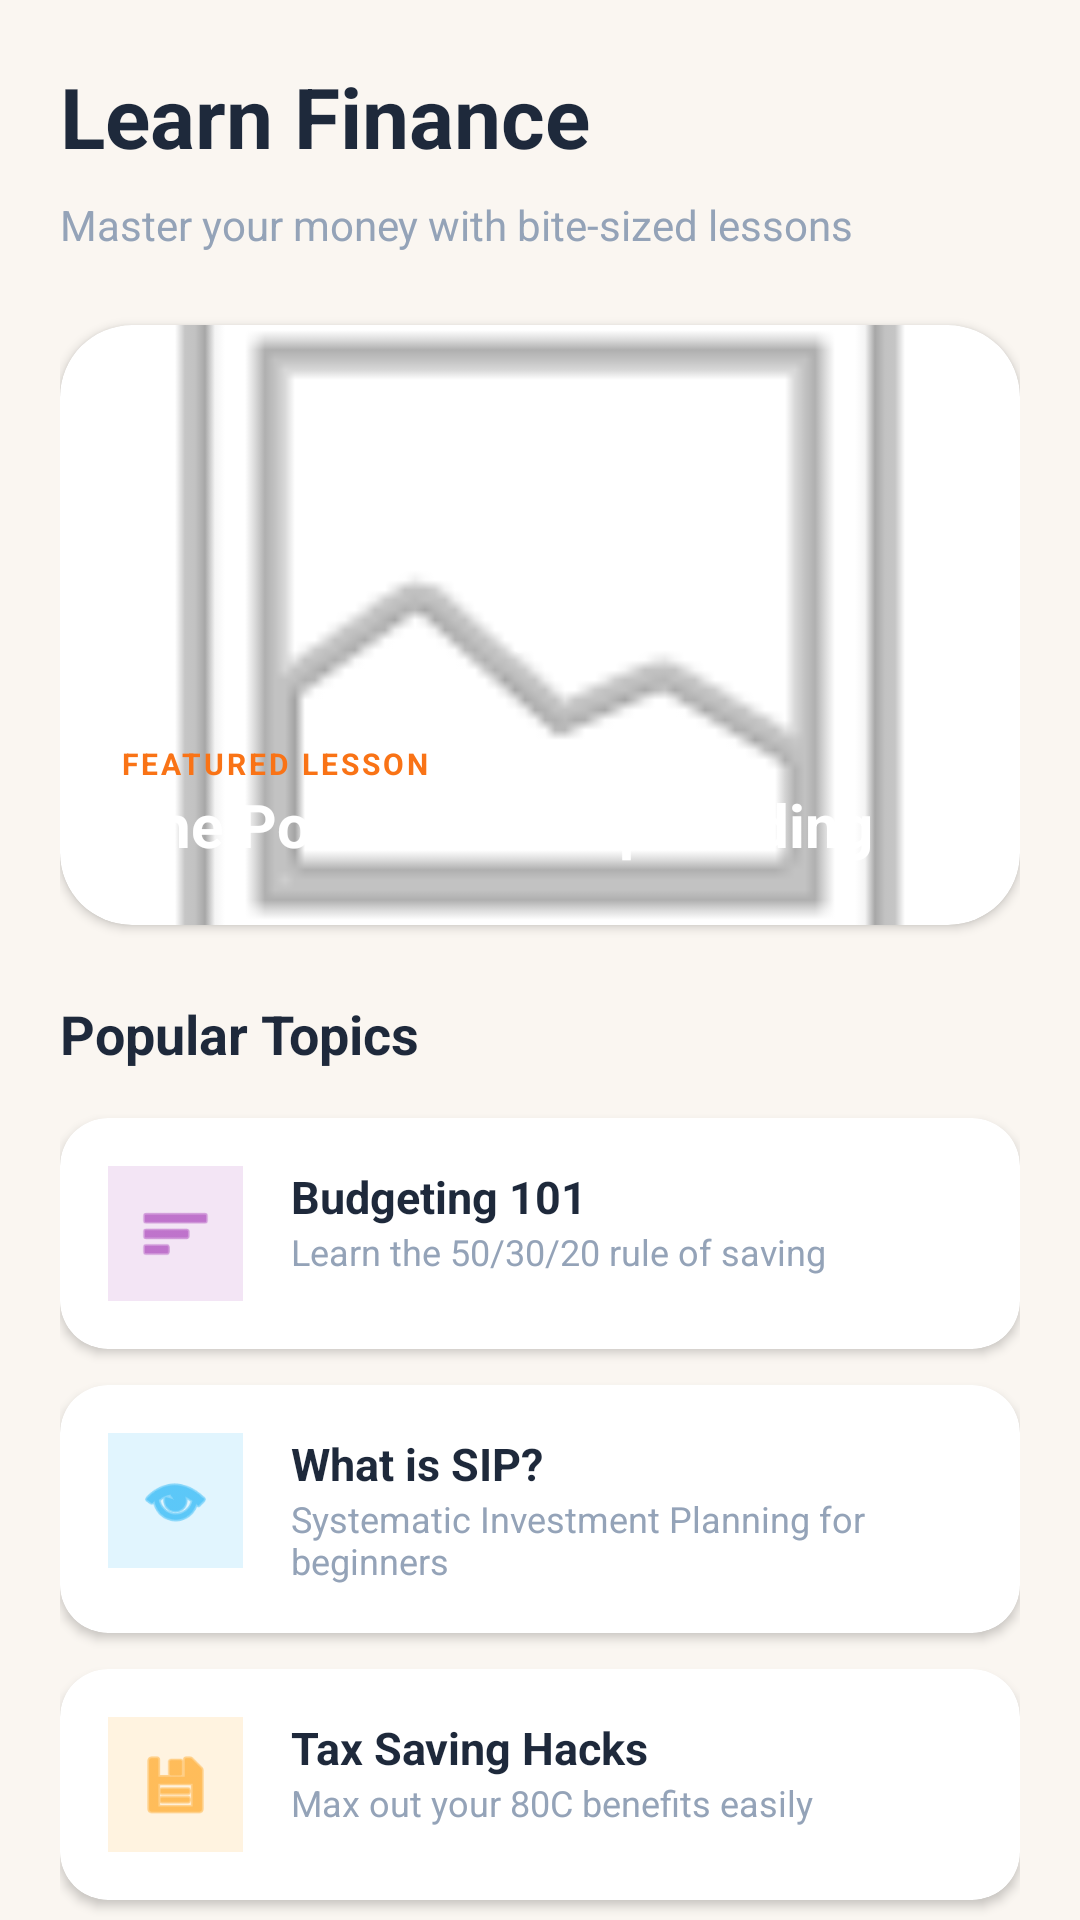

Where to tap for icons on this 1080w x 1920h app screen, as [x,y]:
save: [175,1784]
sort by size: [175,1233]
view: [175,1500]
